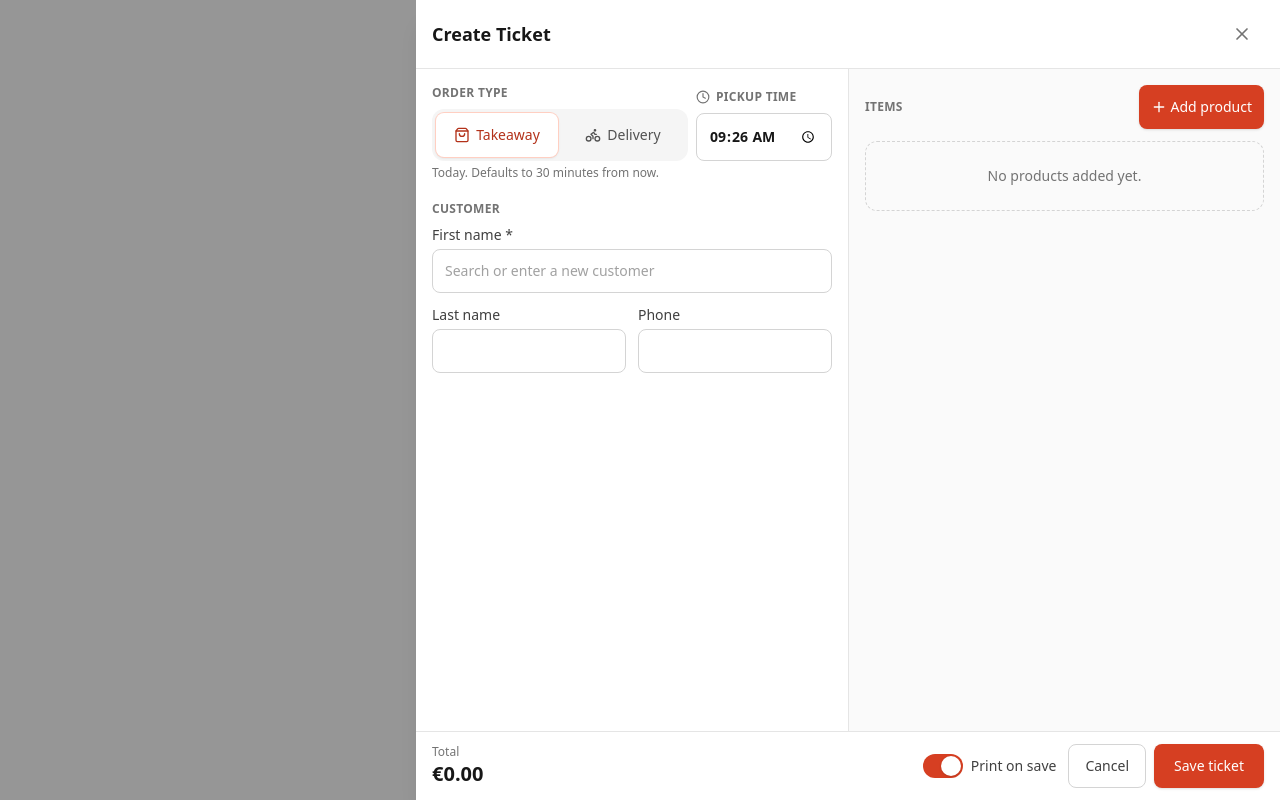
Test: TicketSidebar › configures a product, adds it to the ticket and keeps the menu panel open
Click the button "Add product" at (1201, 107), box [1139,85,1264,129]
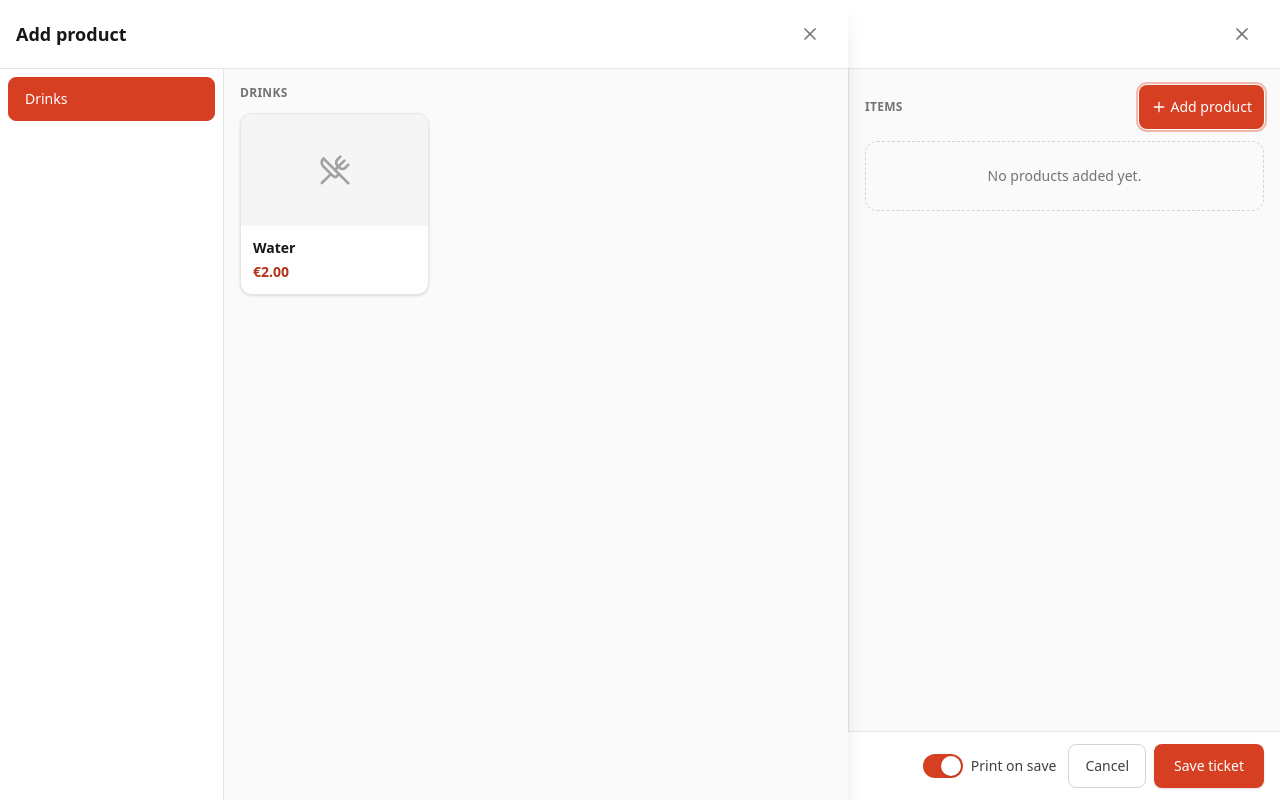
Click the button "Water €2.00" at (335, 204), box [240,113,429,295]
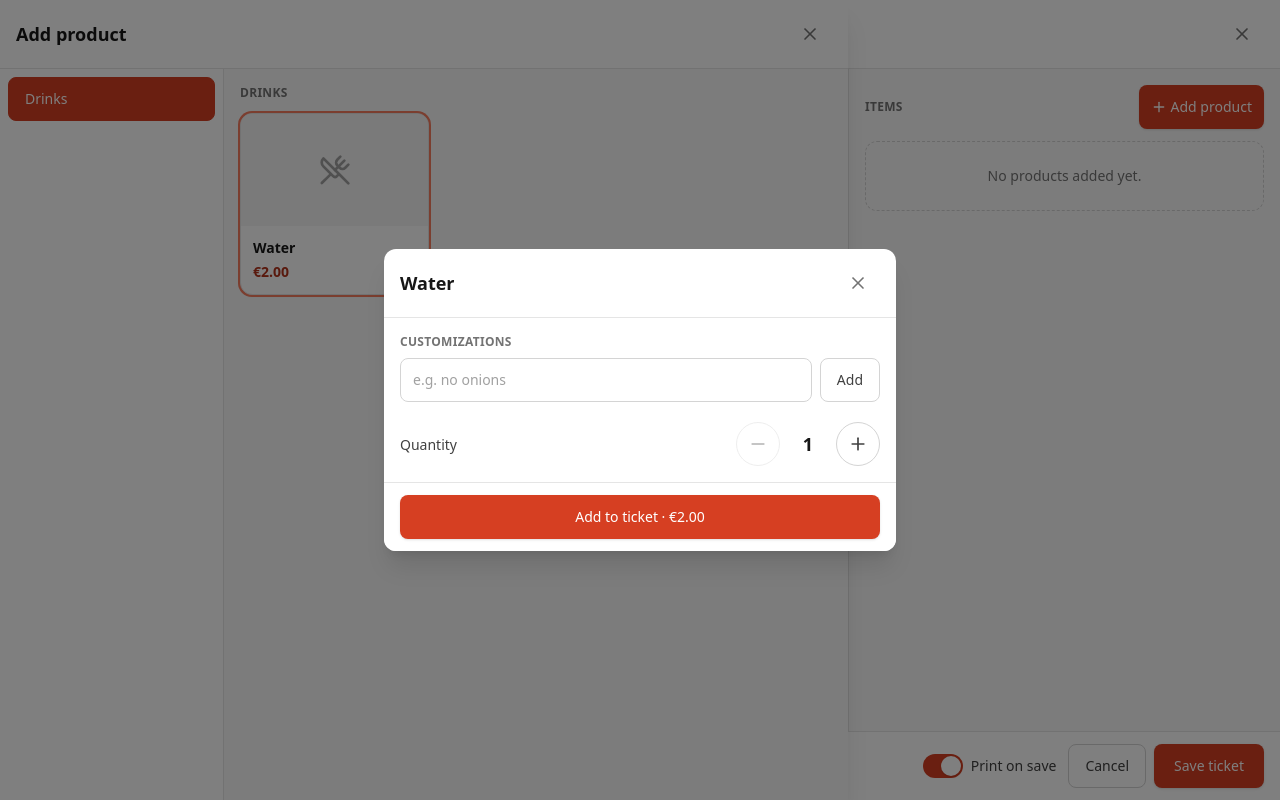
Expected: the dialog named "Configure Water" is shown, [384,249,896,551]
Note: Escape closes only the configuration modal.
Press Escape
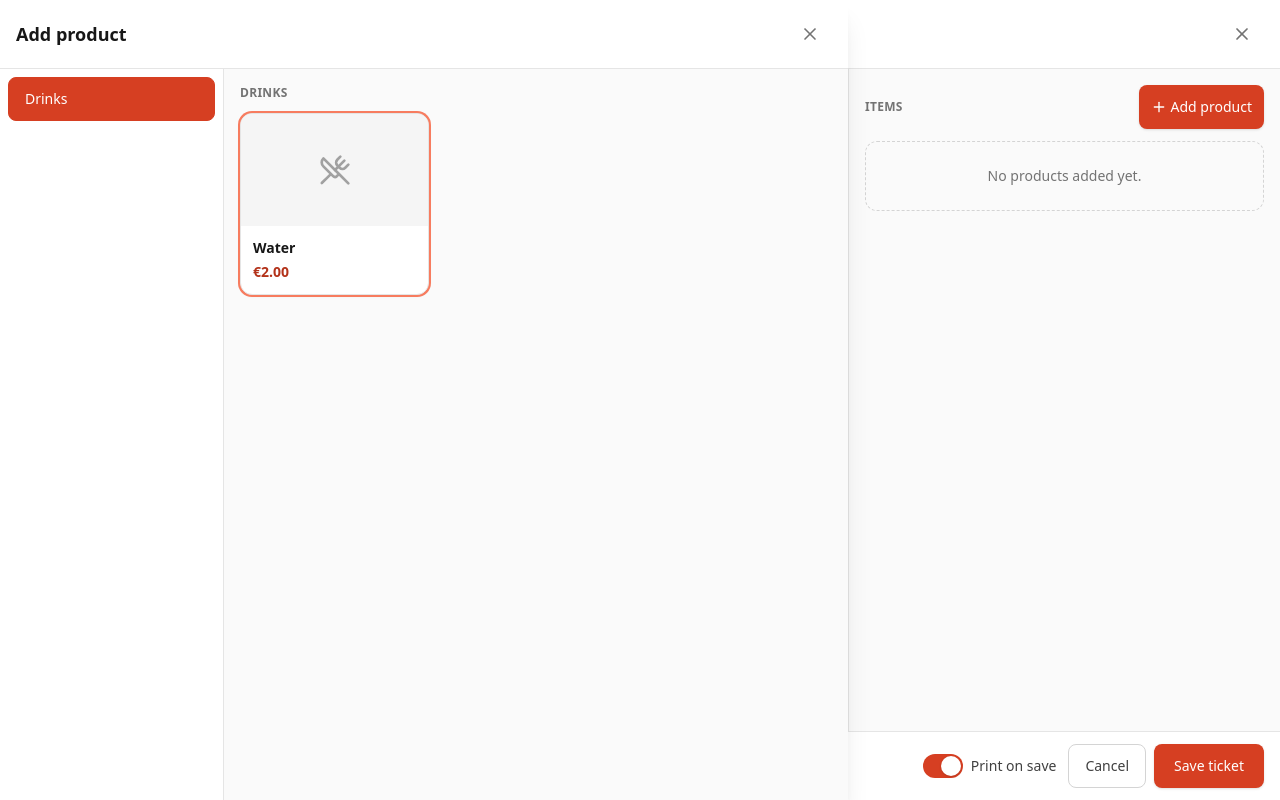
Expected: the dialog "Add product" is shown
Click the button "Water €2.00" at (335, 204), box [240,113,429,295]
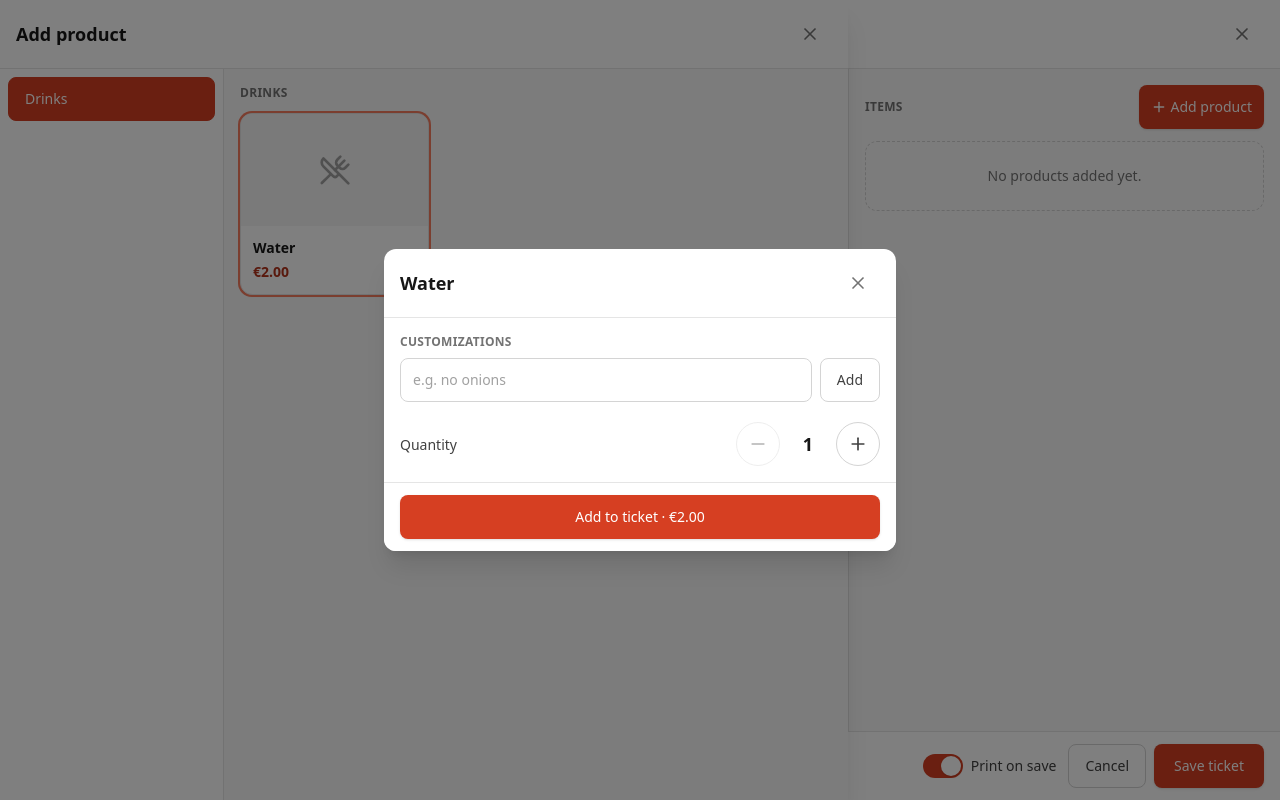
Click the button "Add to ticket · €2.00" at (640, 517), box [400,495,880,539]
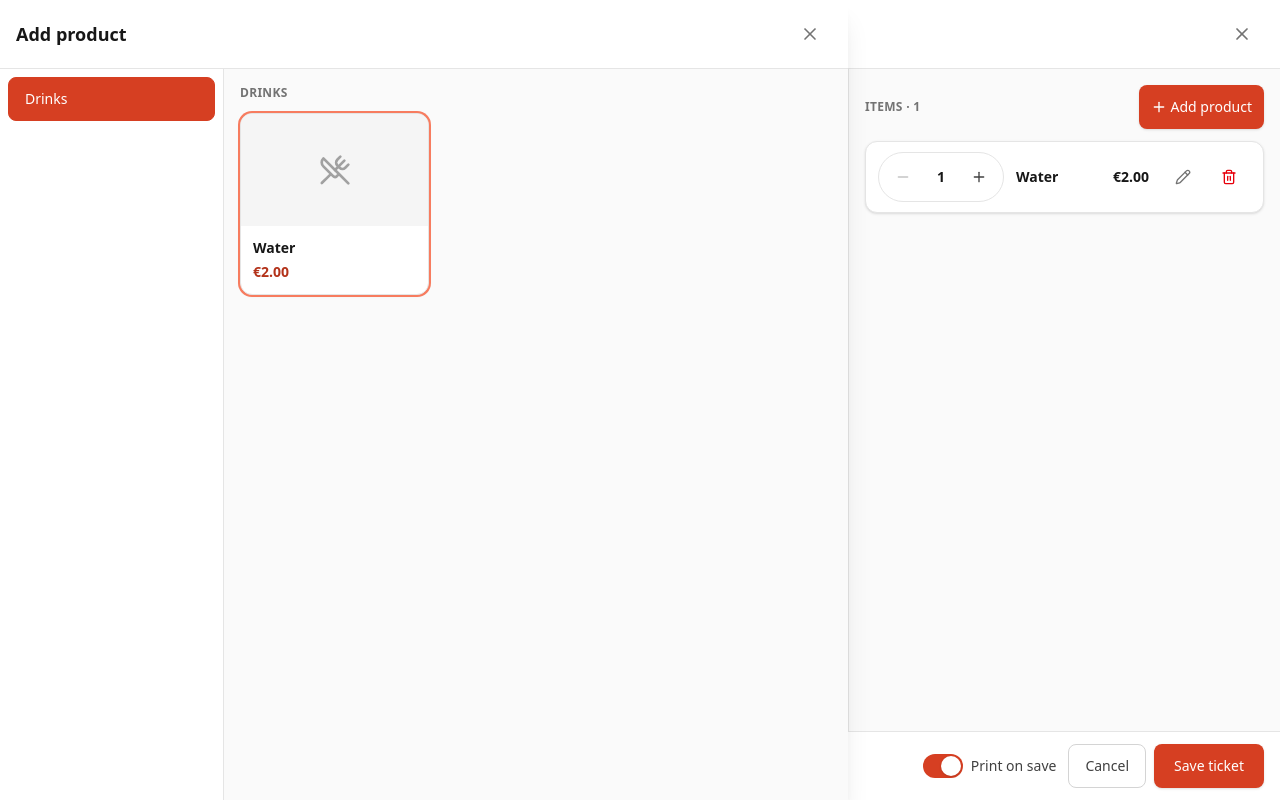
Expected: the dialog "Add product" is shown
Expected: the text named "Quantity of Water" reads "1", [937,167,945,186]
